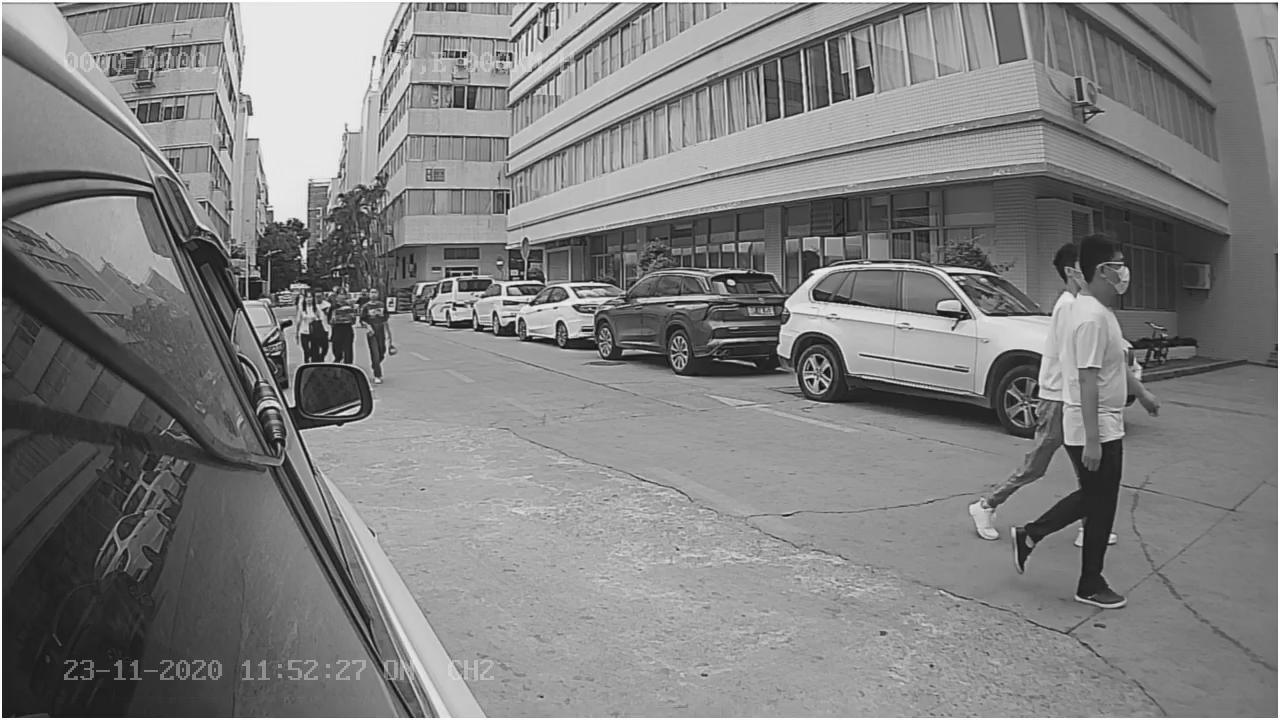person: (1042, 234, 1134, 595)
